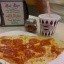pepperoni: (4, 44, 45, 60), (30, 37, 43, 53), (13, 38, 23, 51)
pizza: (1, 35, 64, 64)
